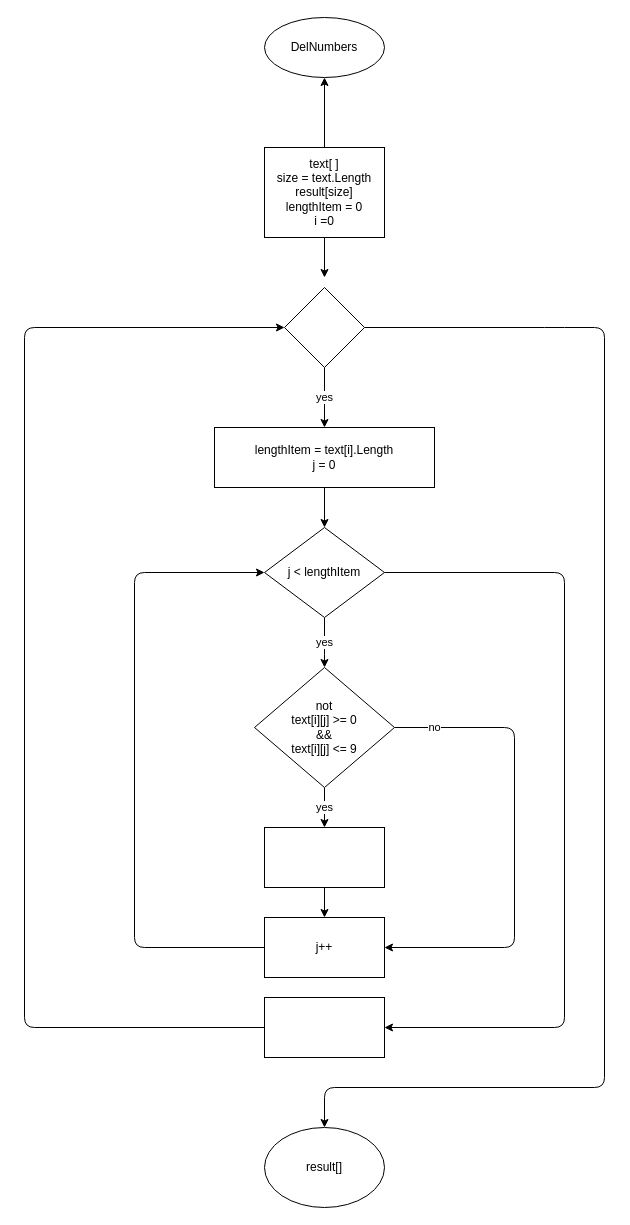
This 630x1225 diagram has some shape labels left out. The shapes that lost their labels are listed below. From the top down, each one's centre as x and y in pixels, then its label:
At (x=324, y=327): "i < size".
At (x=324, y=857): "result[i] += text[i][j]".
At (x=324, y=1027): "i++".
